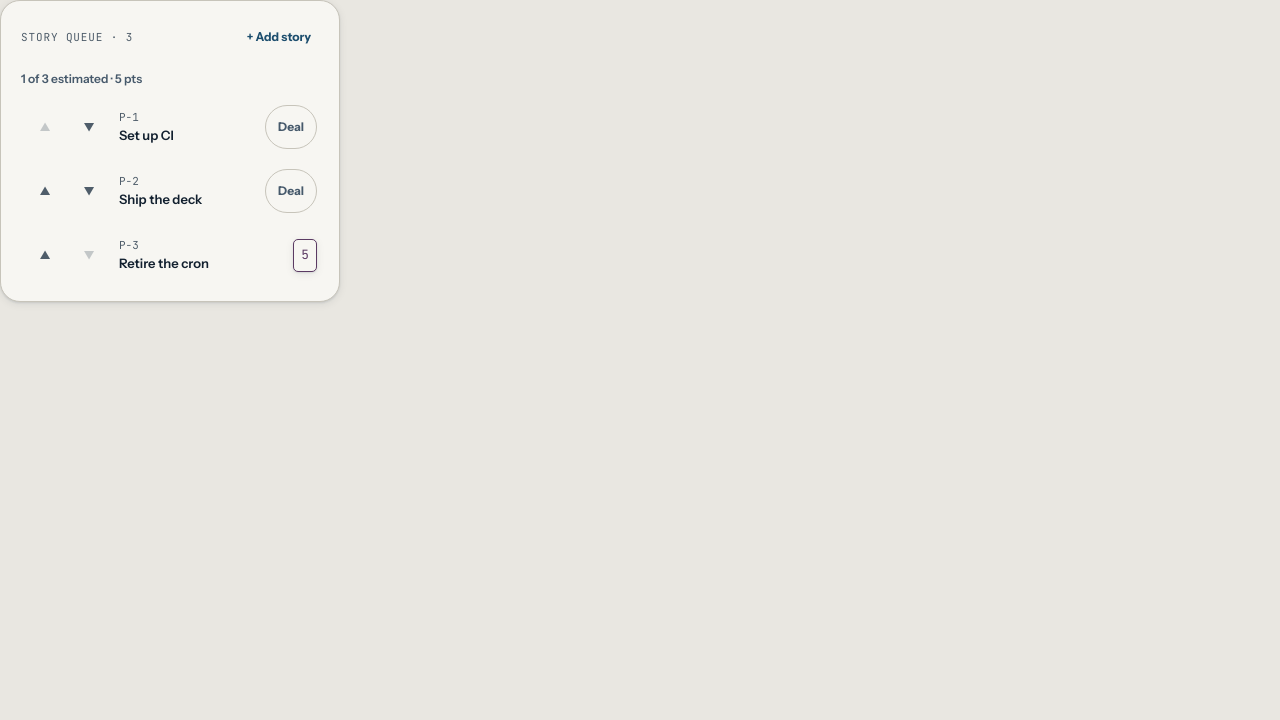
Test: StoryQueue add flow › labels every field in the dialog, not only by placeholder
The width and height of the screenshot is (1280, 720).
Click the button "+ Add story".
click(279, 37)  # box [239,15,319,59]
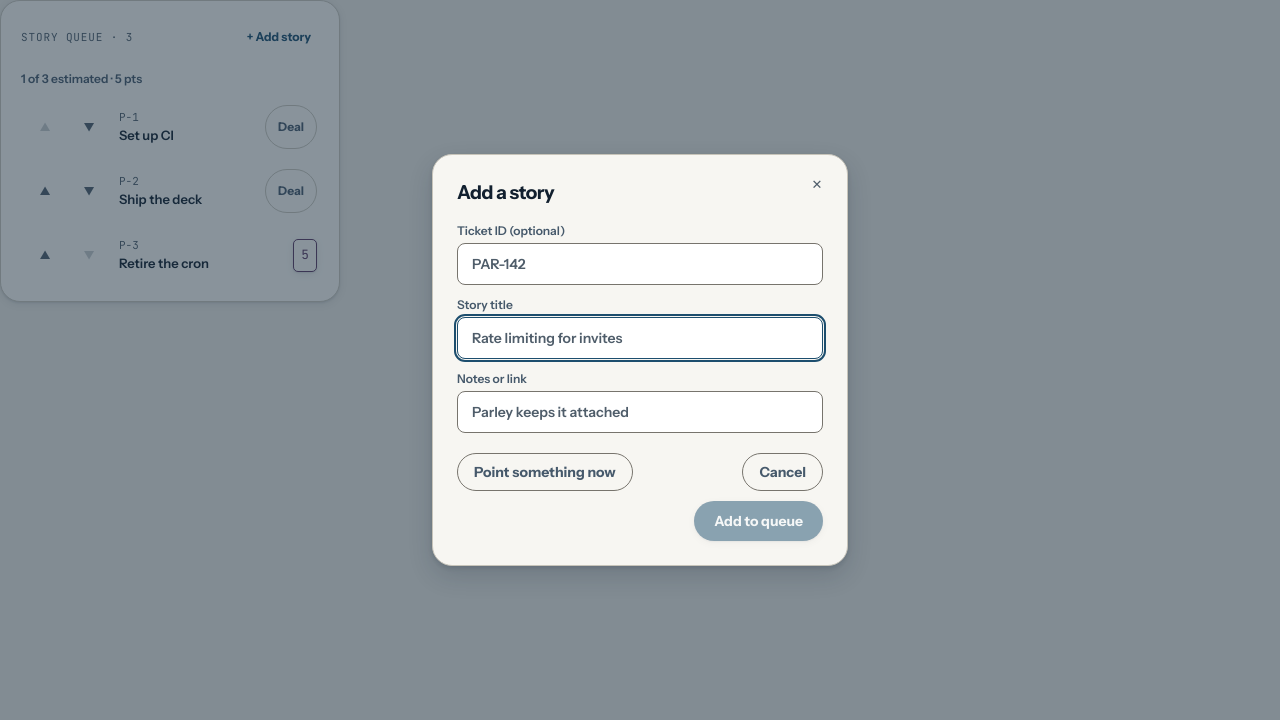
Expected: the field labelled "Story title" is shown, [457,317,823,359]
Expected: the field labelled "Notes or link" is shown, [457,391,823,433]
